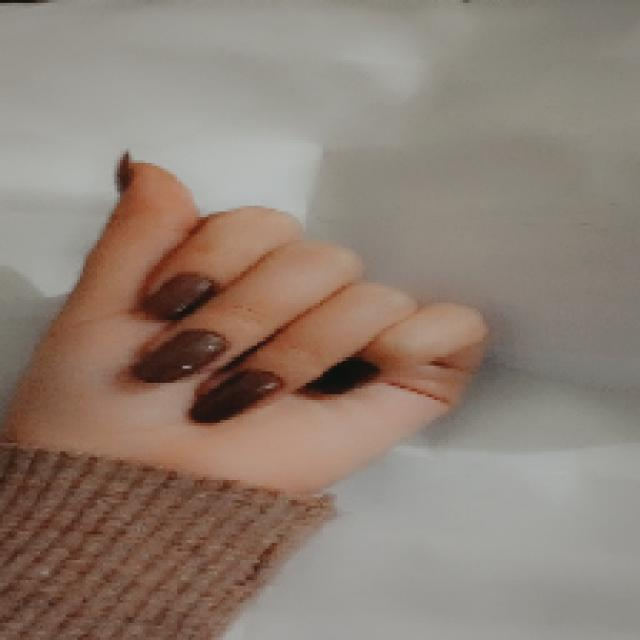Nail: (134, 330, 226, 382), (190, 370, 281, 422), (144, 274, 216, 320), (301, 358, 379, 394), (116, 151, 132, 192)
